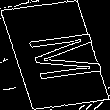M_E: (9, 27, 101, 83)
